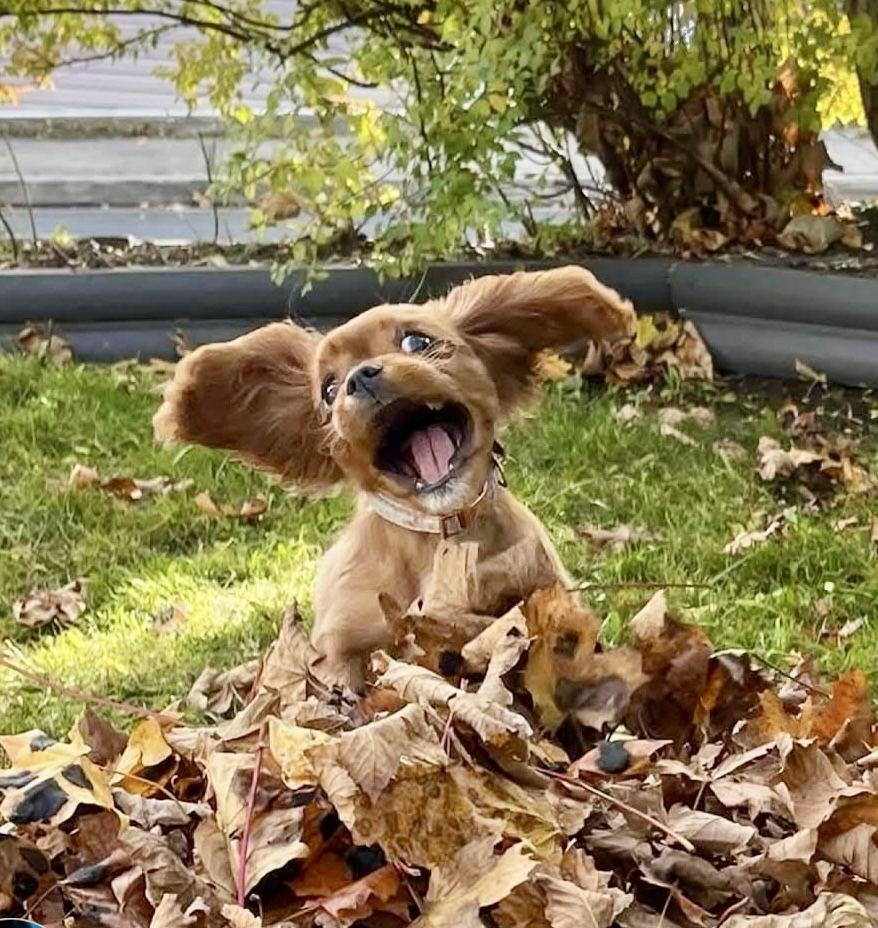puppy-dog: (150, 259, 638, 699)
